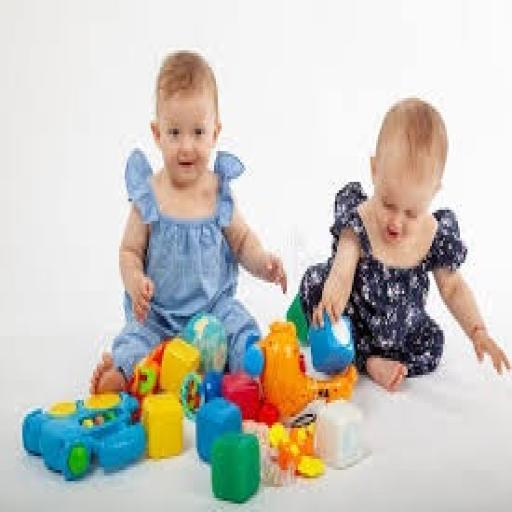baby: (90, 51, 286, 391), (300, 98, 510, 391)
